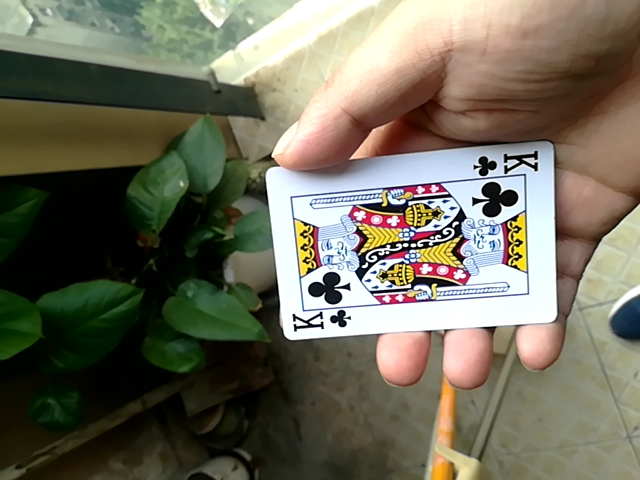mh k: (263, 147, 562, 344)
